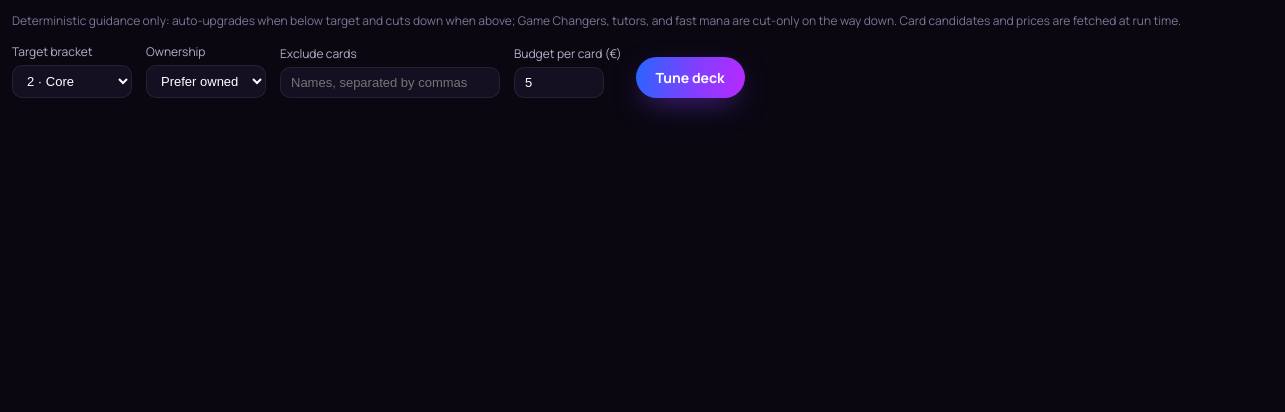
Test: BracketTuner Pro explanation affordance › attaches the Pro explanation badge to cut/add pairs, not add-only rows
Click the button "Tune deck": x=690, y=78 [636,57,745,98]
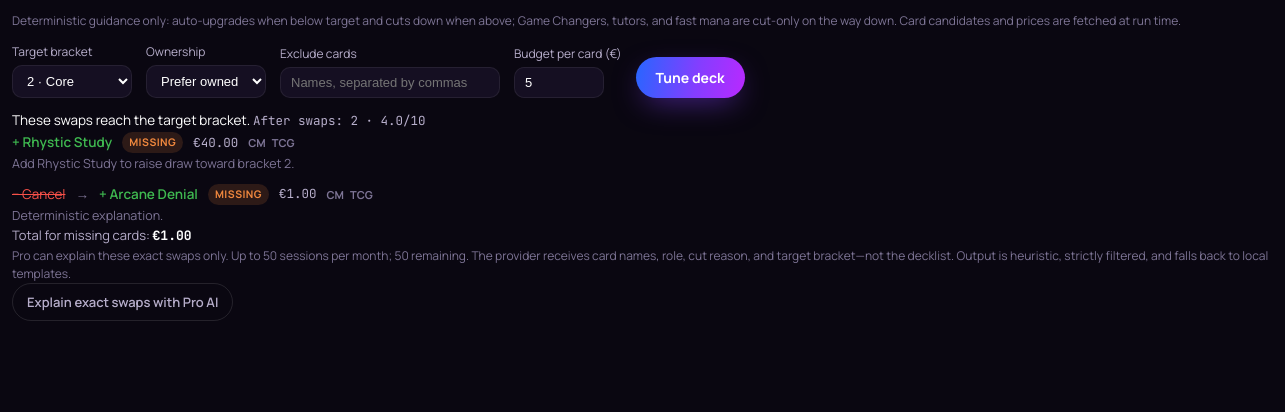
Click the button "Explain exact swaps with Pro AI": x=123, y=302 [12,283,233,321]
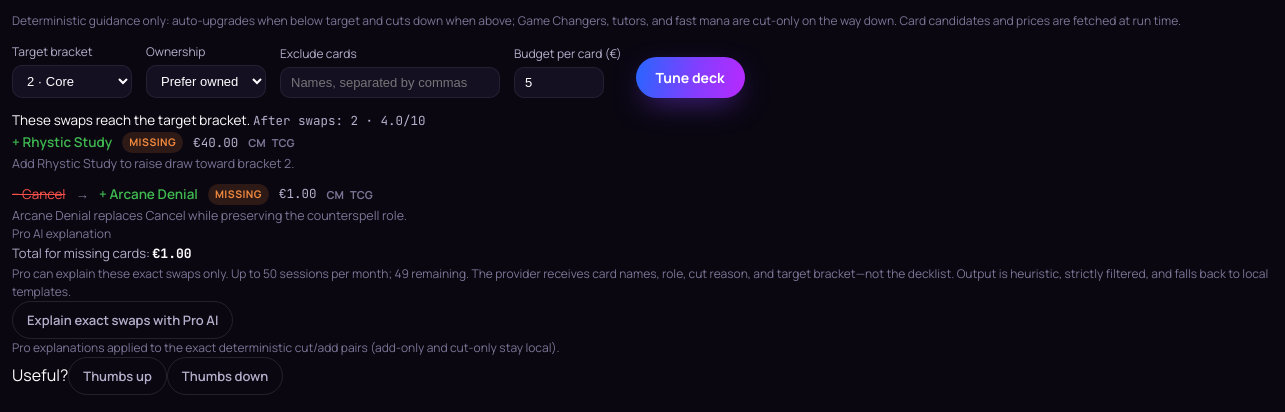
Result: the list item "+ Rhystic Study" is shown at [12,132,295,172]
Result: the list item "− Cancel" is shown at [12,184,407,242]
Result: the text "Arcane Denial replaces Cancel while preserving the counterspell role." is shown at [12,207,407,224]
